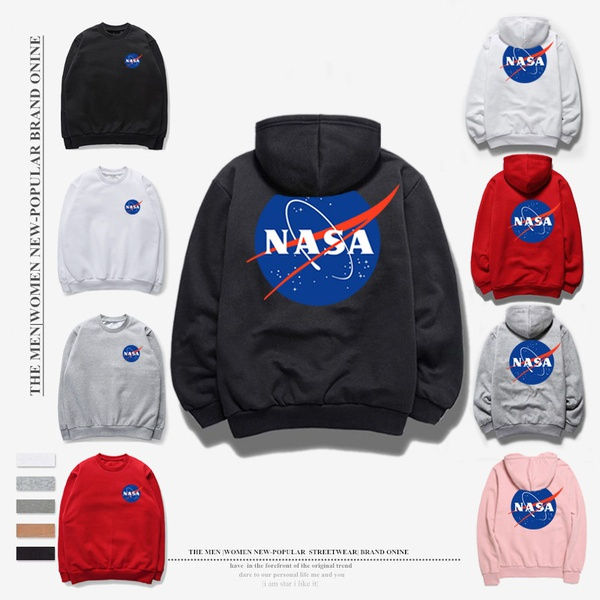NASA: (247, 179, 398, 308), (507, 481, 568, 531), (501, 340, 561, 387), (498, 40, 556, 87), (506, 200, 563, 244), (119, 481, 146, 504), (119, 344, 143, 363), (123, 51, 143, 72), (123, 197, 143, 218)
